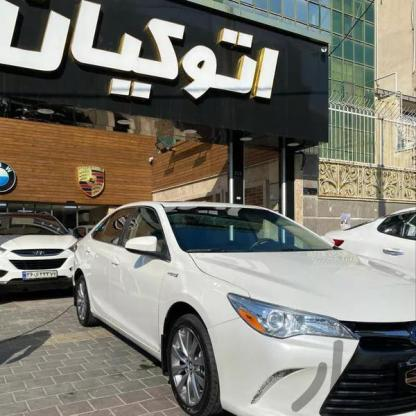Car: (70, 190, 416, 416), (315, 200, 416, 300), (0, 205, 105, 284)
